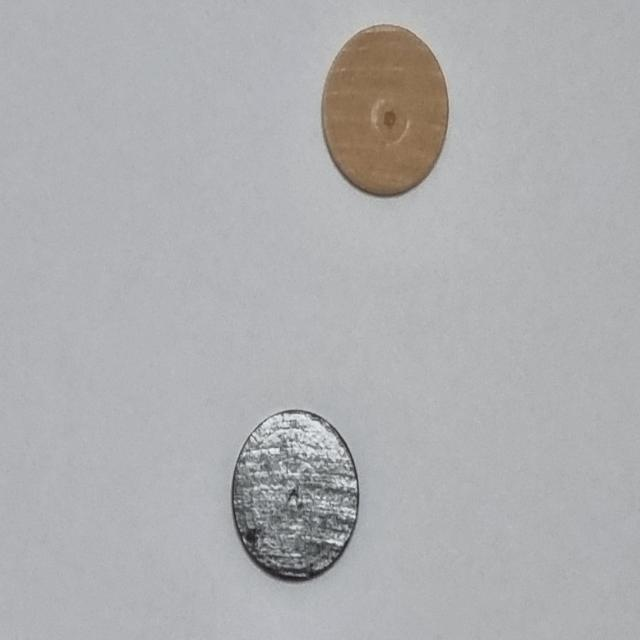black: (203, 381, 381, 589)
white: (290, 10, 478, 206)
